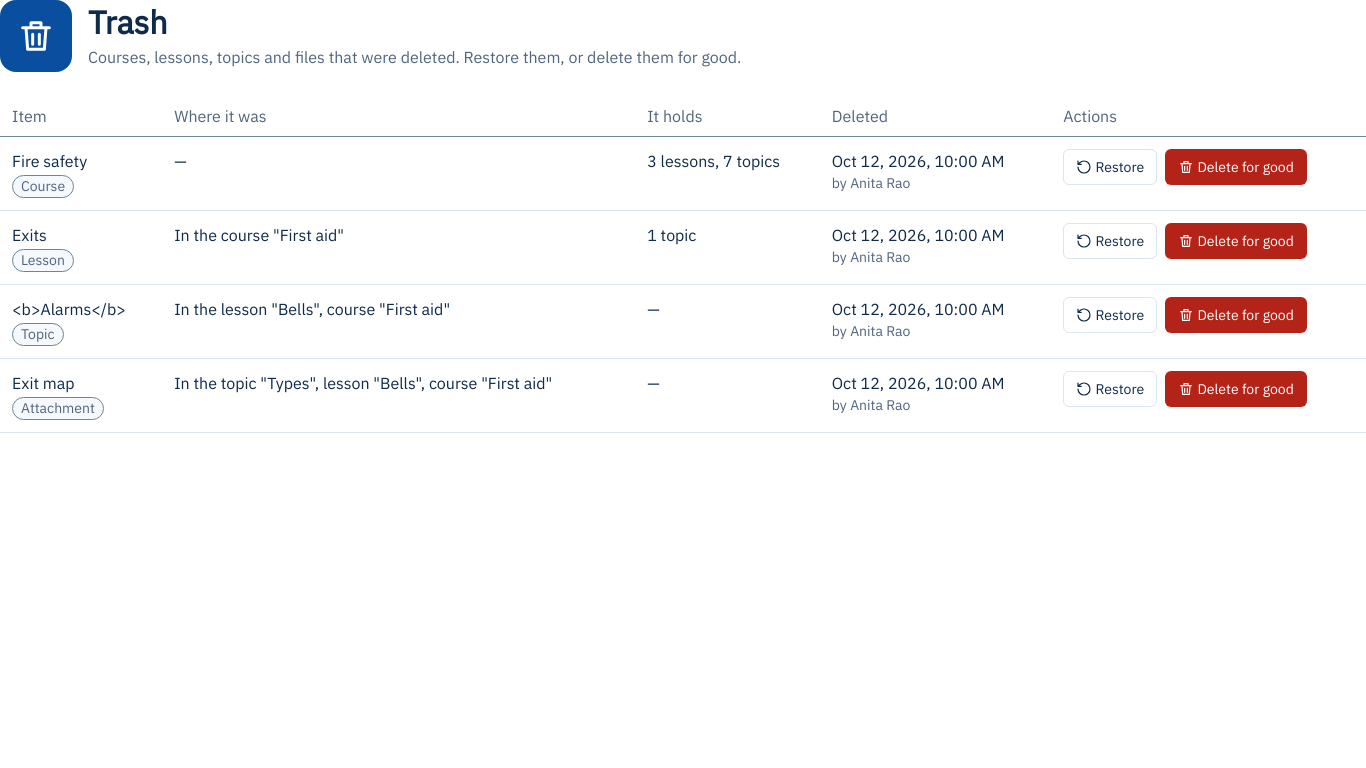
it: TrashPage › asks before deleting for good, and then removes the item
The image size is (1366, 768).
Click the button named "Delete Fire safety for good" at [1236, 167], box [1165,149,1307,185]
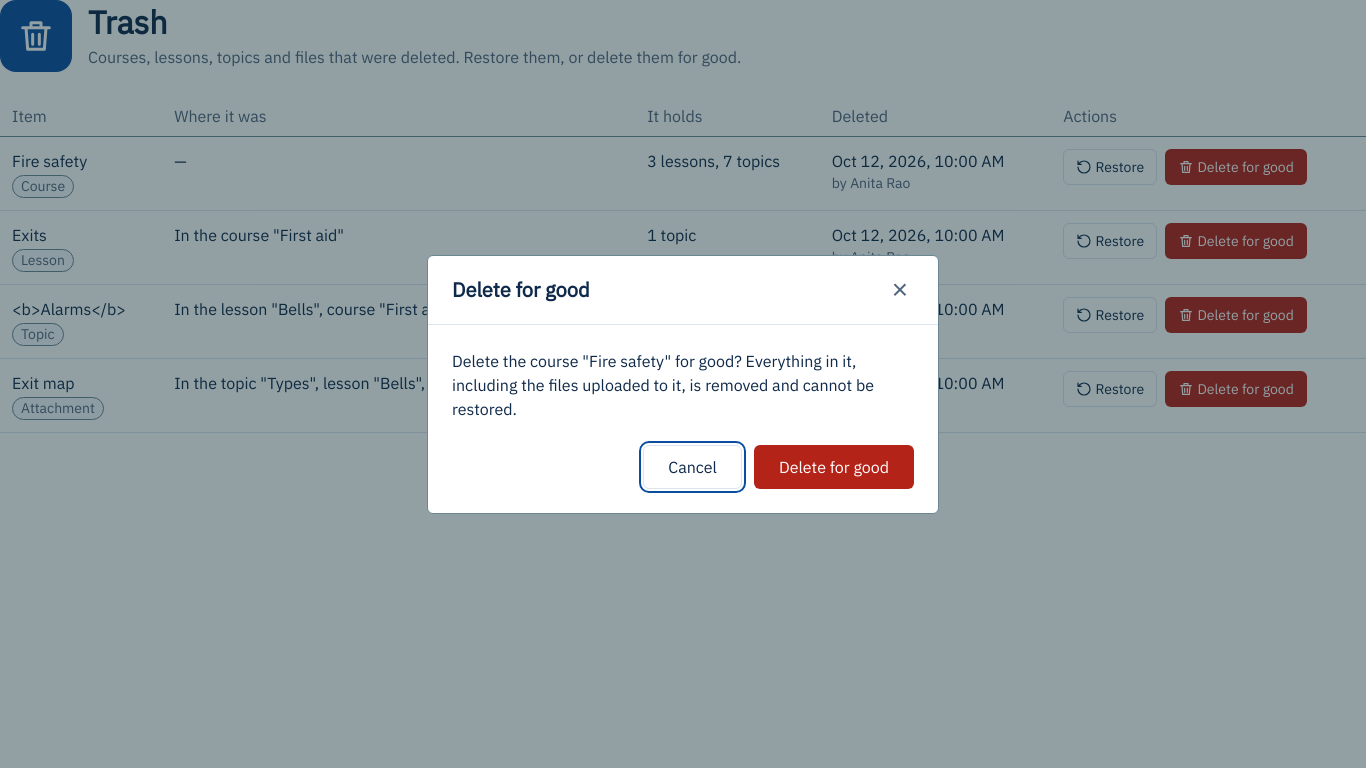
Now the dialog "Delete for good" shows "Delete the course \"Fire safety\" for good?", box [452,350,874,418]
Now the dialog "Delete for good" shows "cannot be restored", box [452,350,874,418]
Click the button "Delete for good" at [834, 466], box [754,444,914,488]
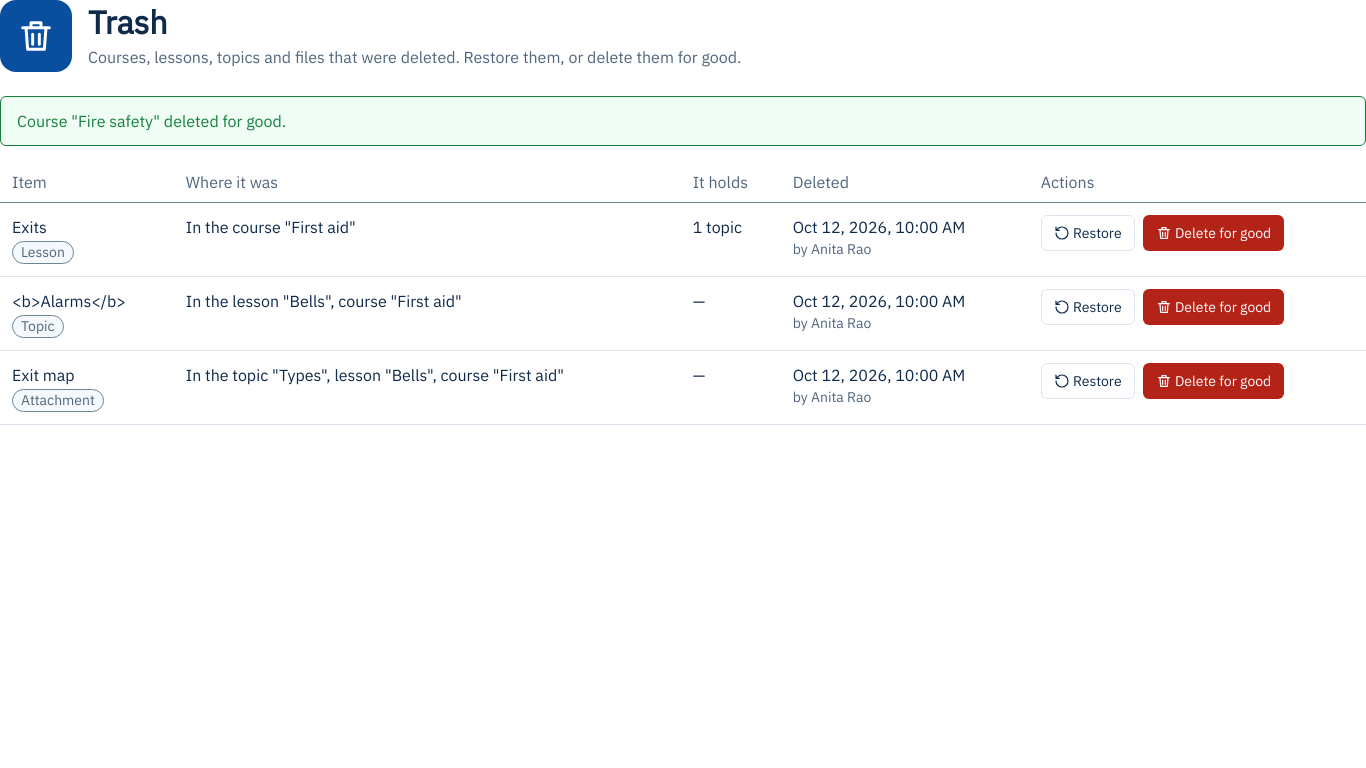
Now the text "Course \"Fire safety\" deleted for good." is shown, box [0,96,1365,146]
